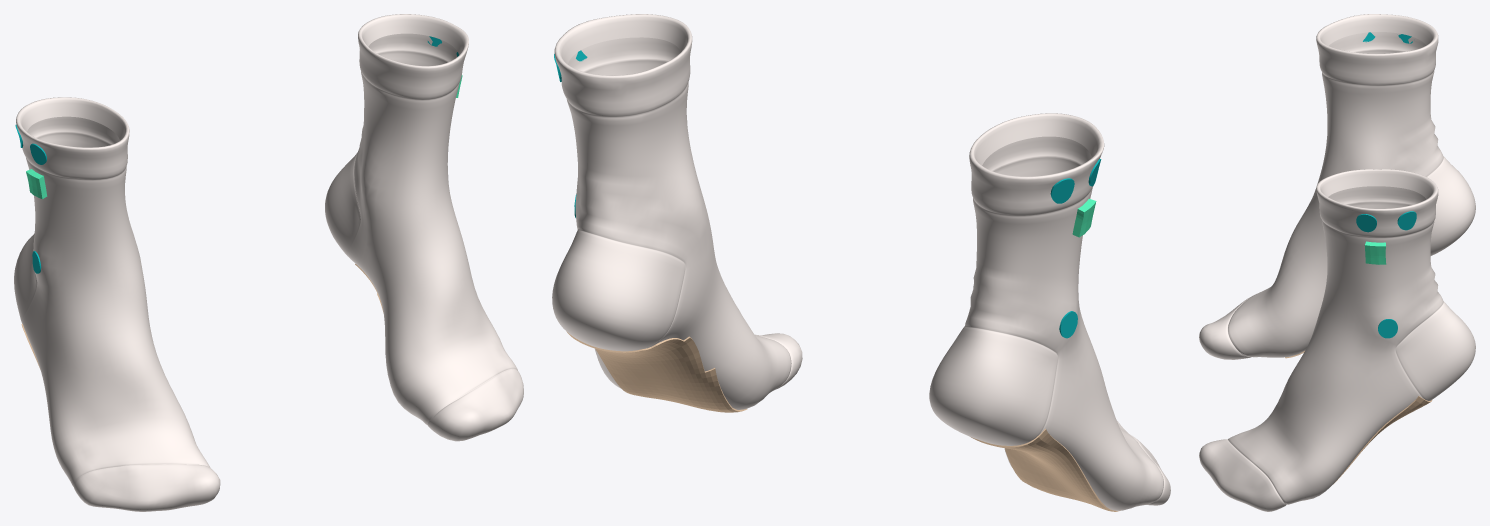
Rendered from smartsocks.glb.
3 views of the same model, side by side, from view 1: azimuth 30°, elevation 25°; view 2: azimuth 150°, elevation 25°; view 3: azimuth 270°, elevation 25° (orthographic). The views are drawn at different scales.
Parts seen in each view (by area): view 1: sock-left-c.005, sock-left-c.002; view 2: sock-left-c.002, sock-left-c.005, Pression, Pression.001; view 3: sock-left-c.002, sock-left-c.005, Pression, PCB + IMU, Circle.
Boxes of the visible parts, x1,y1,x2,y2 form: sock-left-c.005: (14, 97, 220, 511); sock-left-c.002: (325, 14, 523, 441); sock-left-c.002: (552, 14, 802, 409); sock-left-c.005: (929, 113, 1170, 510); Pression: (566, 331, 747, 412); Pression.001: (971, 428, 1120, 511); sock-left-c.002: (1199, 169, 1475, 511); sock-left-c.005: (1199, 14, 1475, 359); Pression: (1333, 396, 1432, 484); PCB + IMU: (1364, 241, 1386, 264); Circle: (1378, 319, 1397, 338).
Size of the model in its own units: 0.4166 by 0.2953 by 0.2431.
